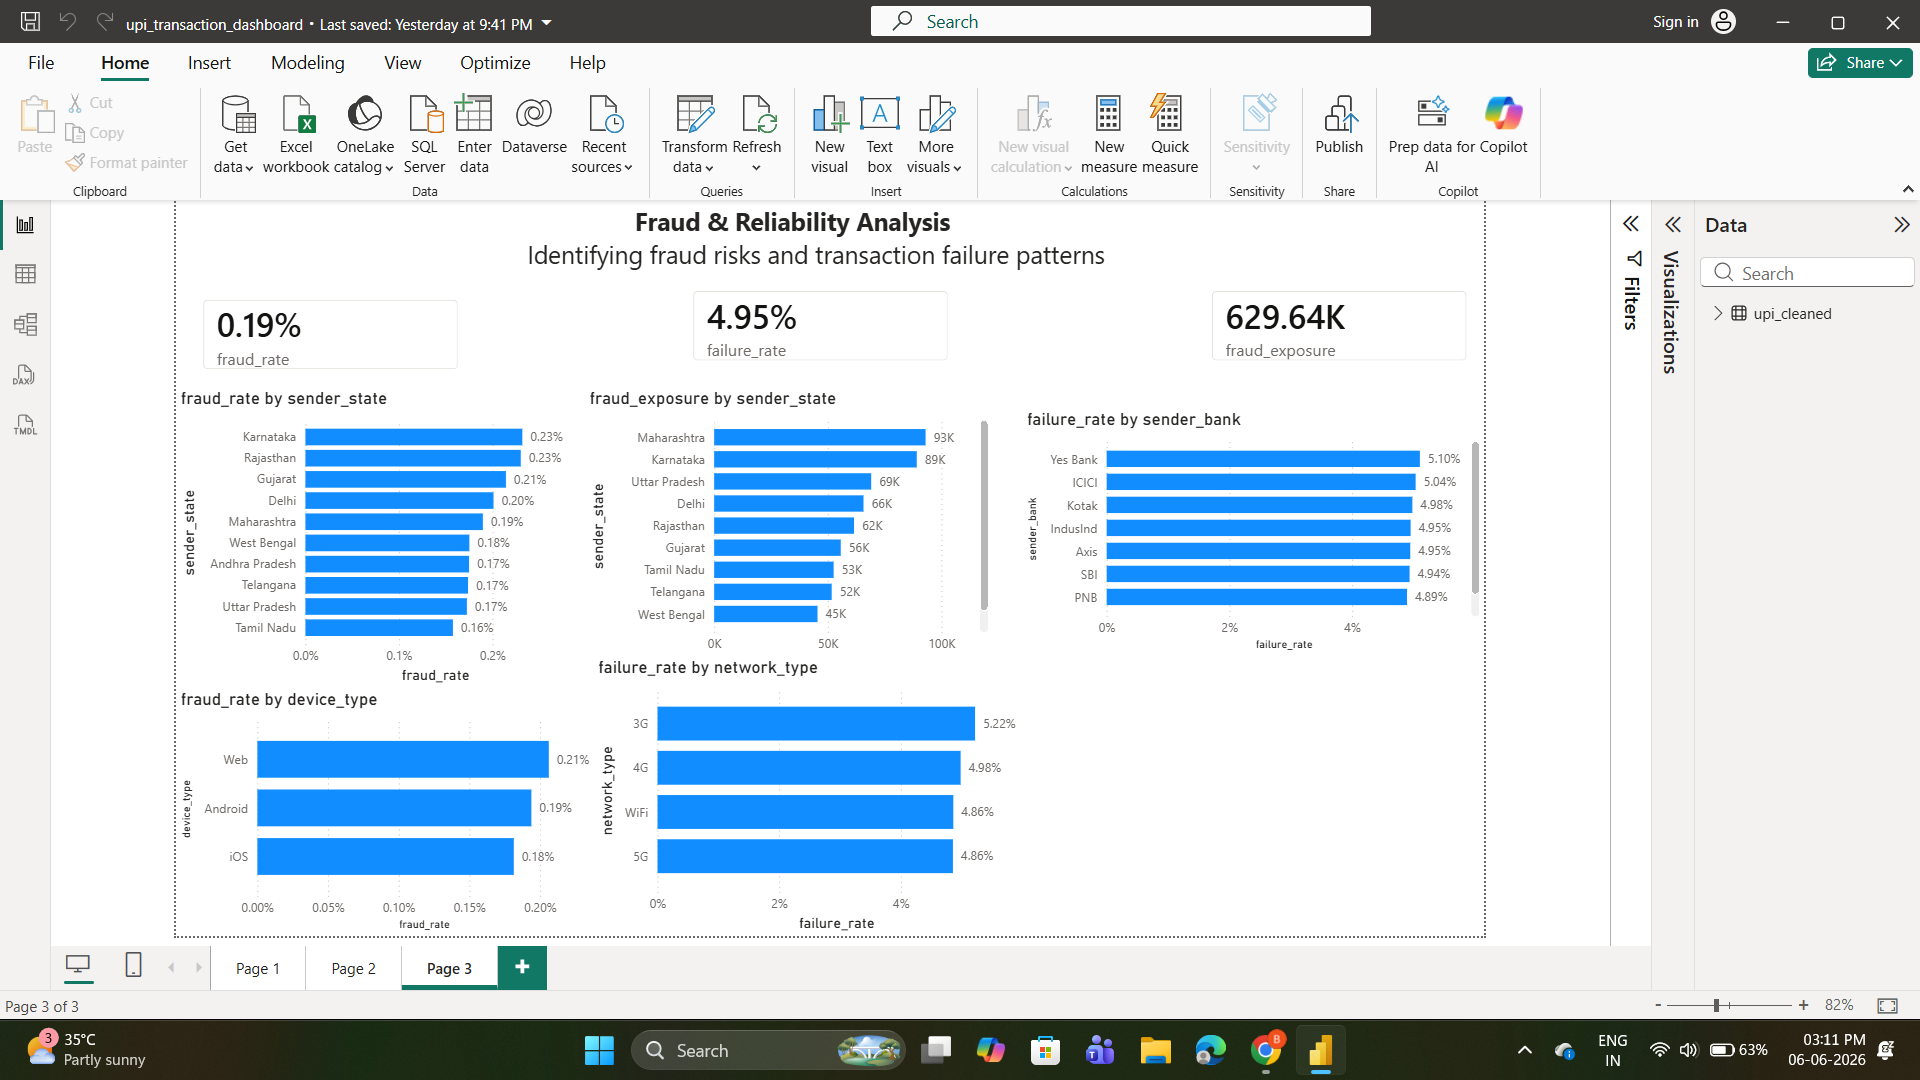

Layout of this report page (visuals, bound fields, positions):
{"tool":"powerbi","page":{"name":"Page 3","canvas":[1280,720],"ordinal":2},"visuals":[{"type":"textbox","box":[9.8,0,1270.5,80.7],"z":0},{"type":"cardVisual","fields":{"Data":["upi_cleaned.fraud_rate"]},"box":[9.8,80.7,283.7,102.7],"z":1},{"type":"cardVisual","fields":{"Data":["upi_cleaned.failure_rate"]},"box":[489.1,72.1,283.7,102.7],"z":2},{"type":"cardVisual","fields":{"Data":["upi_cleaned.fraud_exposure"]},"box":[996.6,72.1,283.7,102.7],"z":3},{"type":"clusteredBarChart","fields":{"Category":["upi_cleaned.sender_state"],"Y":["upi_cleaned.fraud_rate"]},"box":[0,183.4,399.9,294.7],"z":4},{"type":"clusteredBarChart","fields":{"Y":["upi_cleaned.fraud_exposure"],"Category":["upi_cleaned.sender_state"]},"box":[399.9,183.4,399.9,282.5],"z":5},{"type":"clusteredBarChart","fields":{"Y":["upi_cleaned.fraud_rate"],"Category":["upi_cleaned.device_type"]},"box":[0,478.1,428,242.1],"z":6},{"type":"clusteredBarChart","fields":{"Y":["upi_cleaned.failure_rate"],"Category":["upi_cleaned.network_type"]},"box":[408.4,446.3,428,273.9],"z":7},{"type":"clusteredBarChart","fields":{"Y":["upi_cleaned.failure_rate"],"Category":["upi_cleaned.sender_bank"]},"box":[827.9,204.2,452.4,242.1],"z":8}]}

Visuals, with their boxes on the page's 1280x720 design canvas (x1, y1, x2, y2). These are canvas units, not pixel positions in the 1920x1080 screenshot, which may show the page scaled, cropped or inside an application window:
textbox: detection(10, 0, 1280, 81)
cardVisual - upi_cleaned.fraud_rate: detection(10, 81, 294, 183)
cardVisual - upi_cleaned.failure_rate: detection(489, 72, 773, 175)
cardVisual - upi_cleaned.fraud_exposure: detection(997, 72, 1280, 175)
clusteredBarChart - upi_cleaned.sender_state x upi_cleaned.fraud_rate: detection(0, 183, 400, 478)
clusteredBarChart - upi_cleaned.fraud_exposure x upi_cleaned.sender_state: detection(400, 183, 800, 466)
clusteredBarChart - upi_cleaned.fraud_rate x upi_cleaned.device_type: detection(0, 478, 428, 720)
clusteredBarChart - upi_cleaned.failure_rate x upi_cleaned.network_type: detection(408, 446, 836, 720)
clusteredBarChart - upi_cleaned.failure_rate x upi_cleaned.sender_bank: detection(828, 204, 1280, 446)
